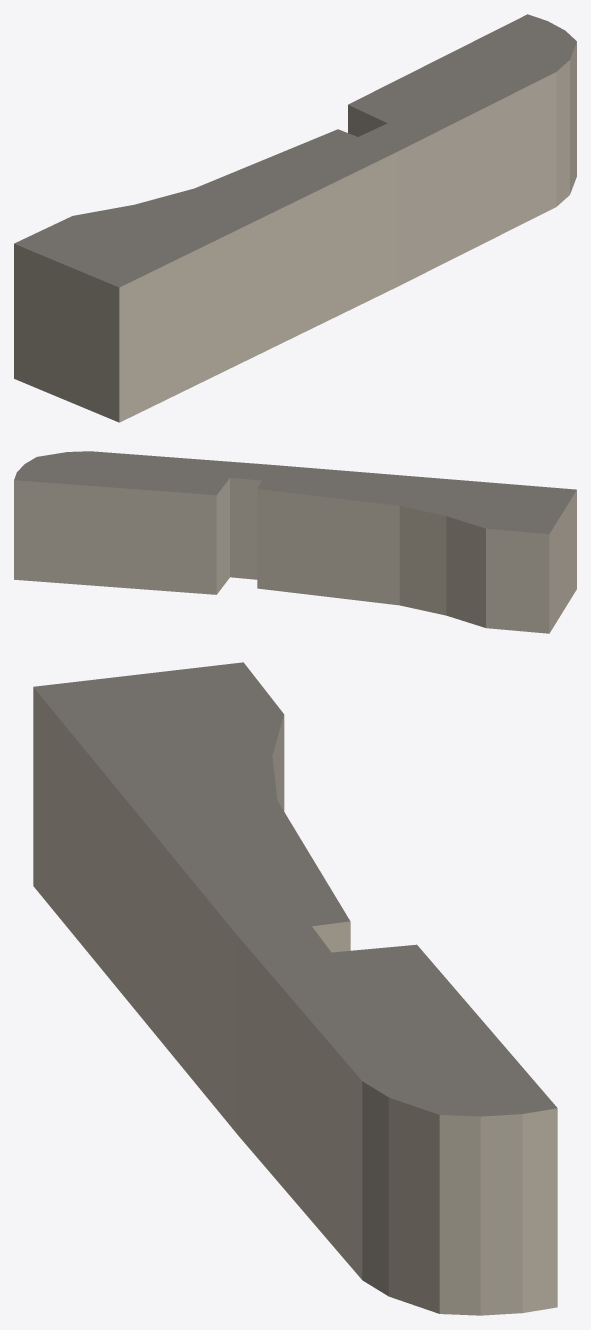
The picture shows the model from 3 angles, top to bottom: view 1: azimuth 30°, elevation 25°; view 2: azimuth 150°, elevation 25°; view 3: azimuth 270°, elevation 25°; orthographic projection. The views are drawn at different scales.
Parts seen in each view (by area): view 1: HP-w1198842217; view 2: HP-w1198842217; view 3: HP-w1198842217.
Part boxes in pixels (x1,y1,x2,y2): HP-w1198842217: [14, 14, 576, 422]; HP-w1198842217: [14, 451, 576, 633]; HP-w1198842217: [33, 662, 557, 1315].
Bounding box in the file's own units: 88.07 × 18 × 42.99.
